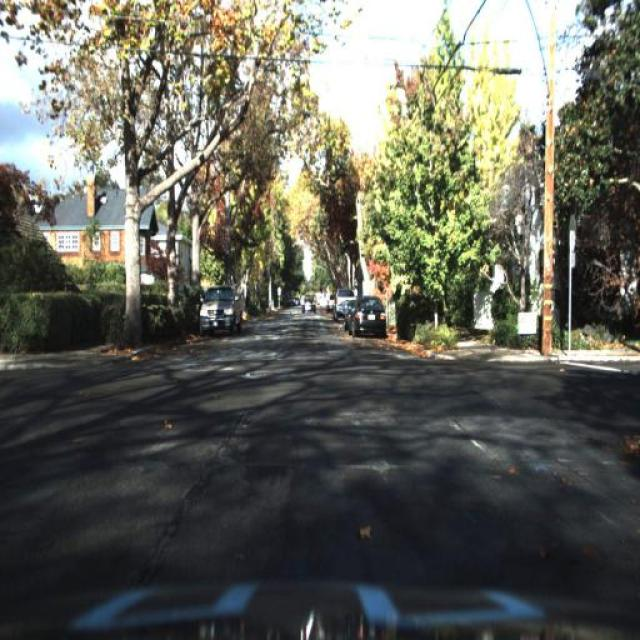car: (194, 284, 242, 337), (346, 296, 384, 340), (330, 290, 350, 325), (299, 292, 320, 316)
